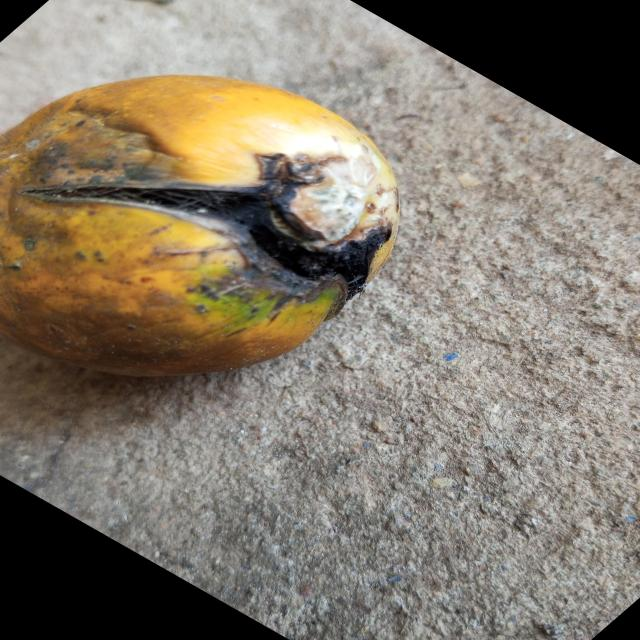damaged: (0, 76, 399, 376)
